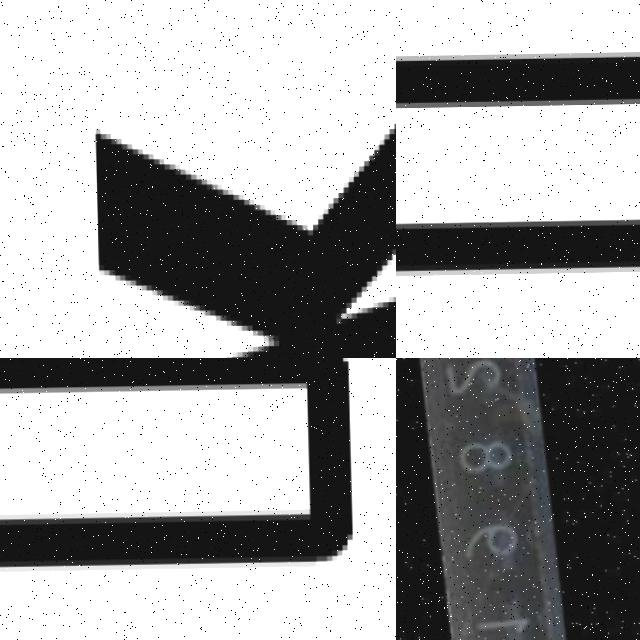0: (396, 49, 640, 284)
1: (469, 610, 534, 640)
2: (439, 358, 508, 399)
8: (456, 438, 517, 480)
9: (456, 520, 524, 563)
K: (81, 0, 396, 358)
Q: (0, 358, 363, 579)
